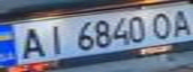0: (127, 12, 151, 44)
4: (109, 15, 133, 46)
6: (72, 18, 96, 52)
8: (90, 17, 115, 50)
A: (9, 24, 51, 61), (166, 6, 193, 37)
I: (39, 21, 72, 55)
O: (148, 9, 178, 39)
